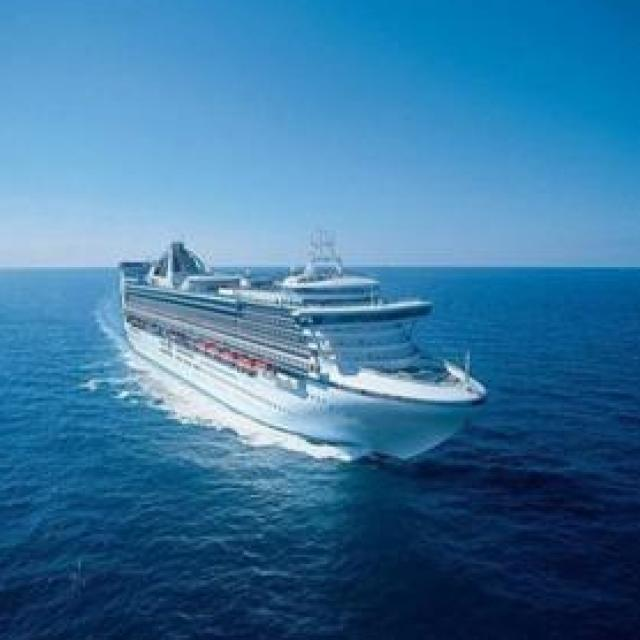passenger ship: (103, 240, 480, 465)
